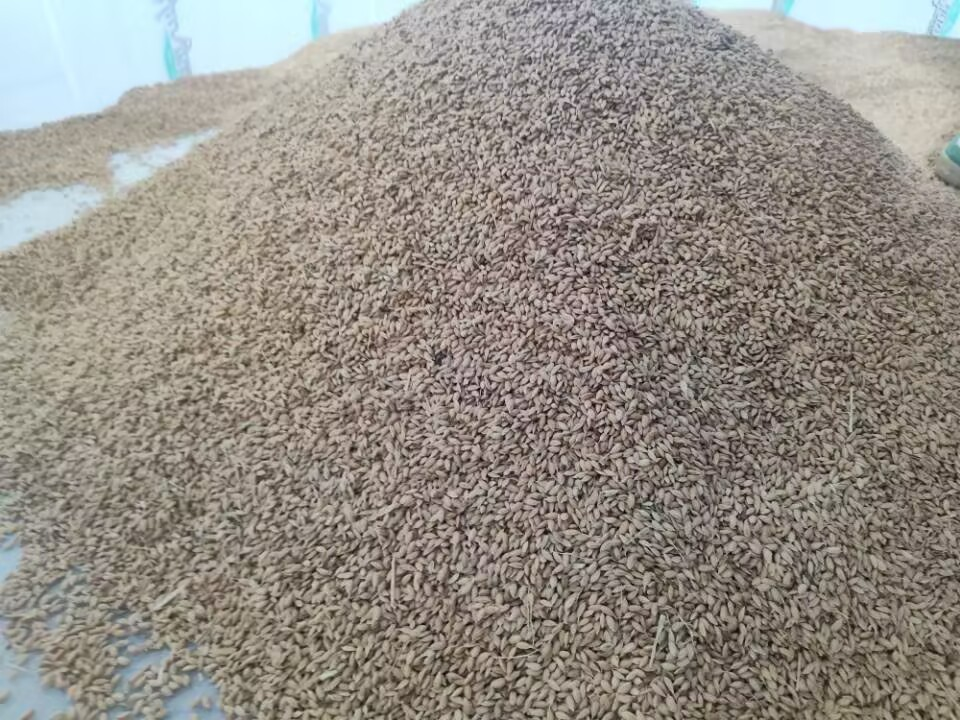Grain: (237, 2, 959, 632)
